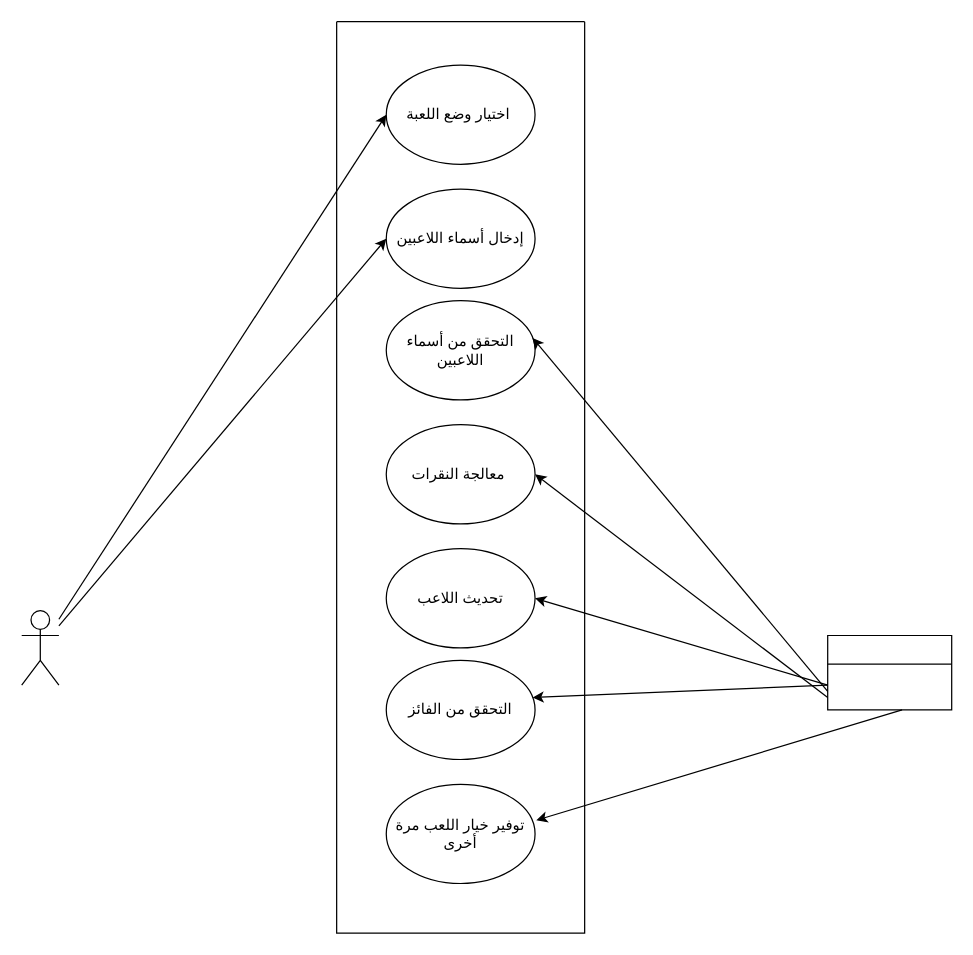
This 973x955 diagram has some shape labels left out. Here are the shapes that lost their labels. From the top down, the centre of each, then its label:
At (39,647): "user".
At (889,672): "system".
